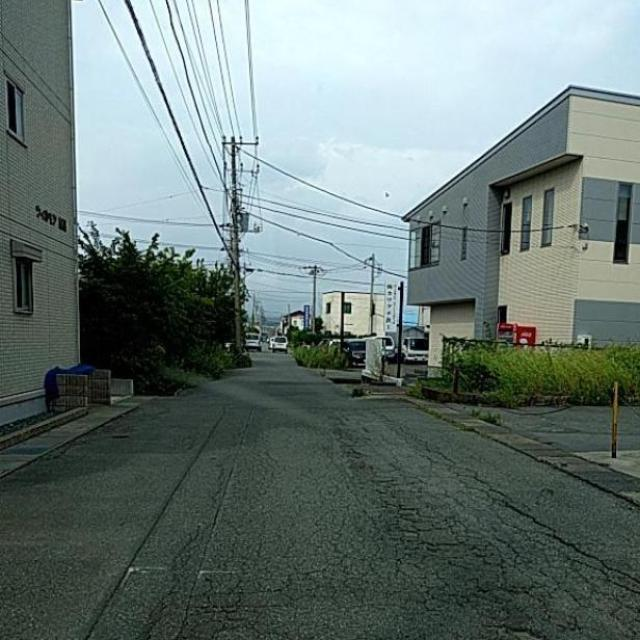Retak Buaya: (182, 452, 640, 640)
